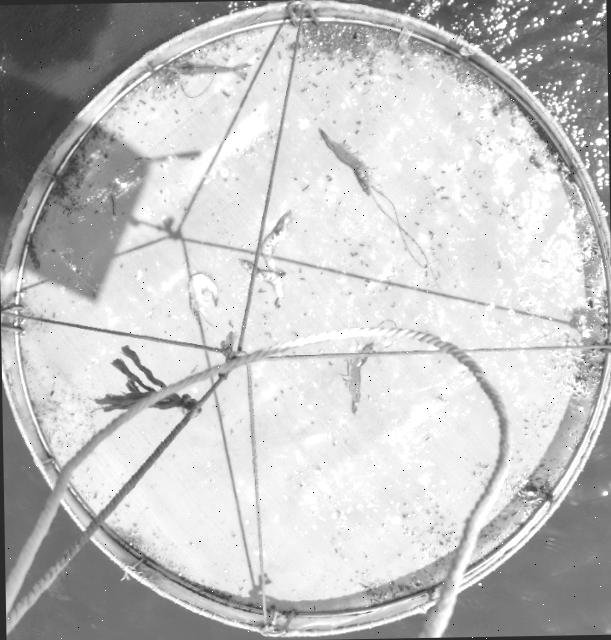shrimp: (318, 129, 371, 194), (342, 339, 375, 413), (237, 259, 284, 308), (260, 209, 290, 277), (171, 60, 246, 79), (189, 273, 216, 321)
